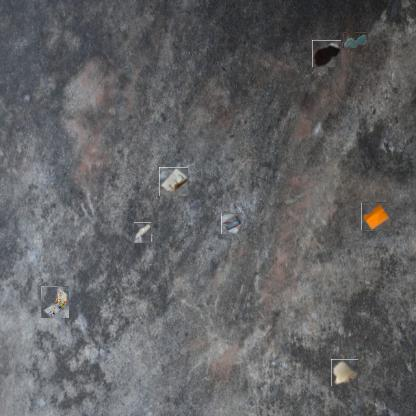dirty: (41, 286, 69, 318), (159, 167, 188, 196), (362, 202, 390, 231), (331, 359, 358, 386), (221, 212, 242, 234), (133, 223, 152, 243)
liquid: (312, 40, 341, 67), (343, 32, 367, 48)
